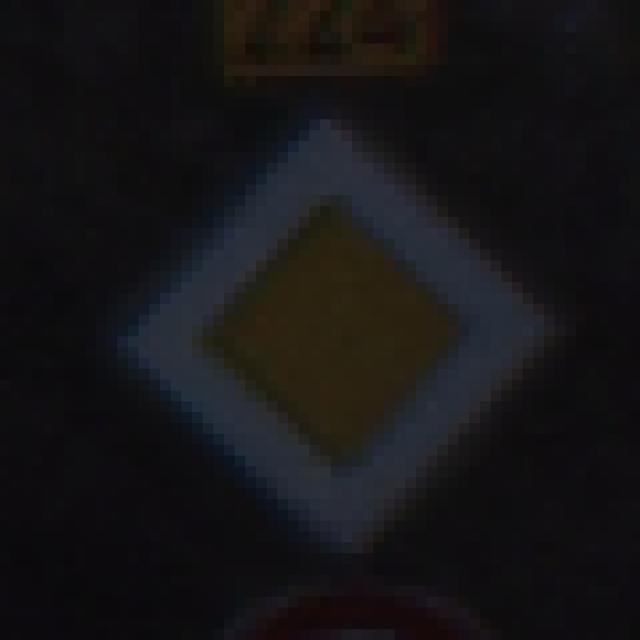Main Road: (65, 66, 588, 587)
